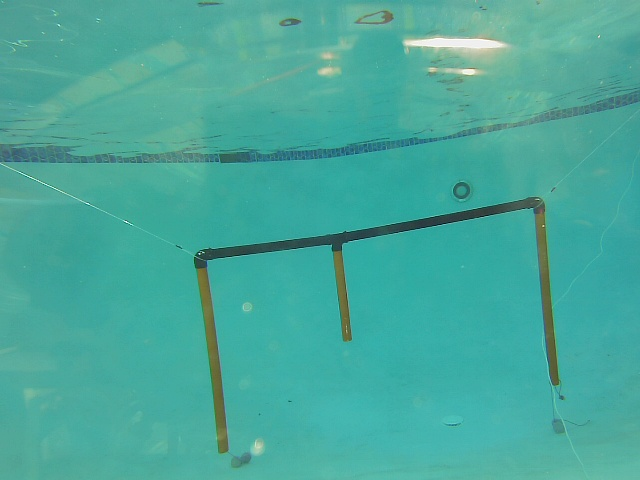Gate: (191, 262, 234, 459), (529, 208, 562, 392), (331, 245, 357, 343)
